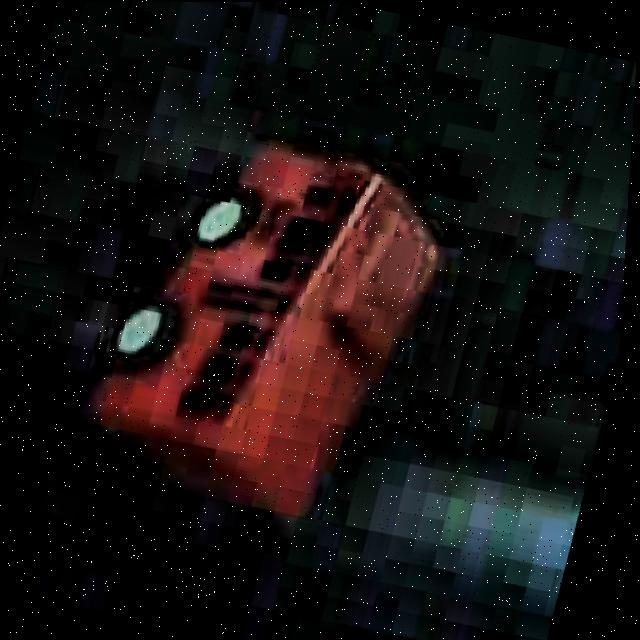bus: (55, 100, 472, 542)
